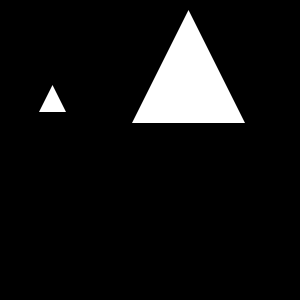triangle: (132, 10, 245, 123), (39, 85, 66, 112)
